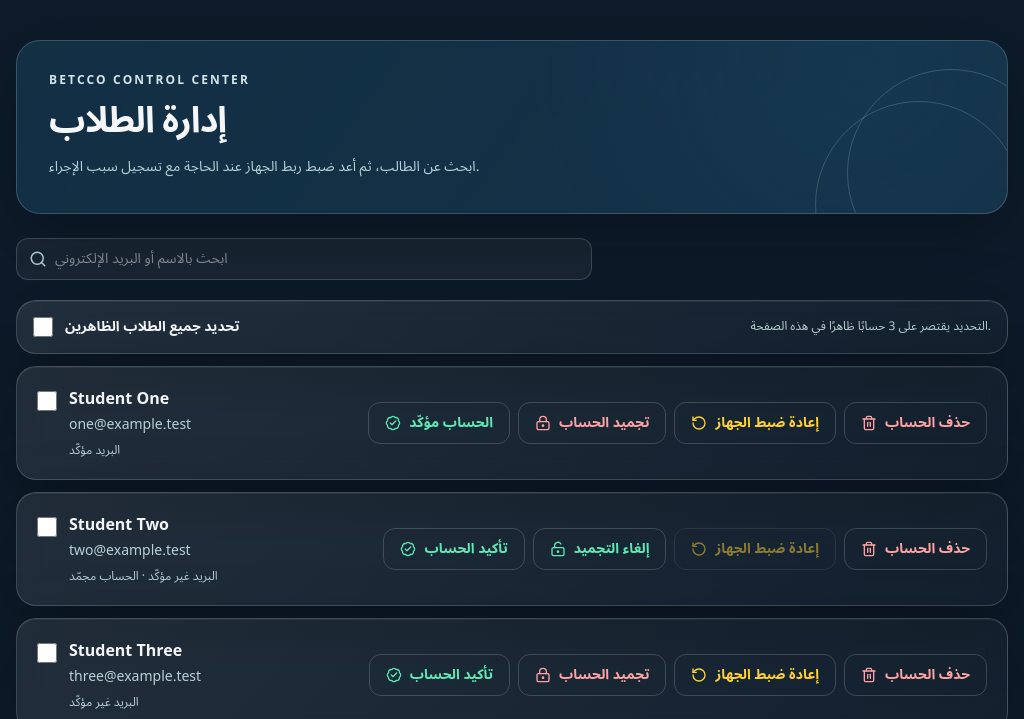
Test: Admin users ar — mocked UI-contract evidence › StudentManagement › renders header, raw identities, statuses and encoded search/query key; search clears selection
Expected: the text "Student One" is shown, [69, 382, 169, 416]
Expected: the heading "إدارة الطلاب" is shown, [49, 83, 226, 159]
Click the checkbox named "تحديد حساب Student One" at (47, 401), box [37, 391, 57, 411]
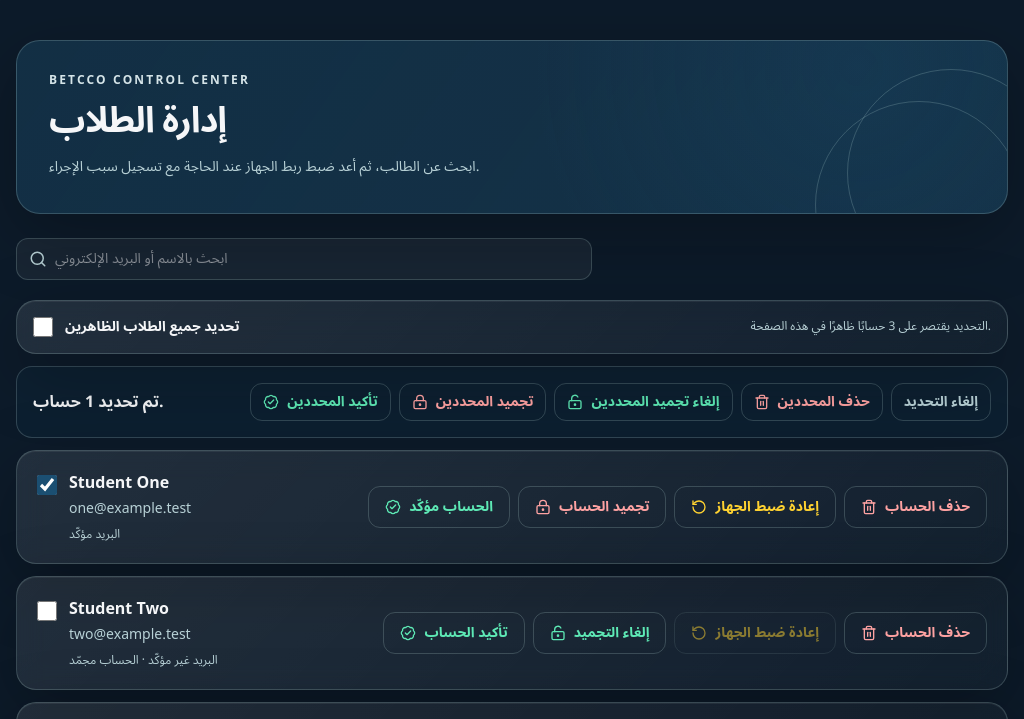
Expected: the button "إلغاء التحديد" is shown, [891, 383, 991, 421]
Type "A+B & طالب" into the field named "بحث عن طالب" at (317, 259), box [55, 249, 579, 269]
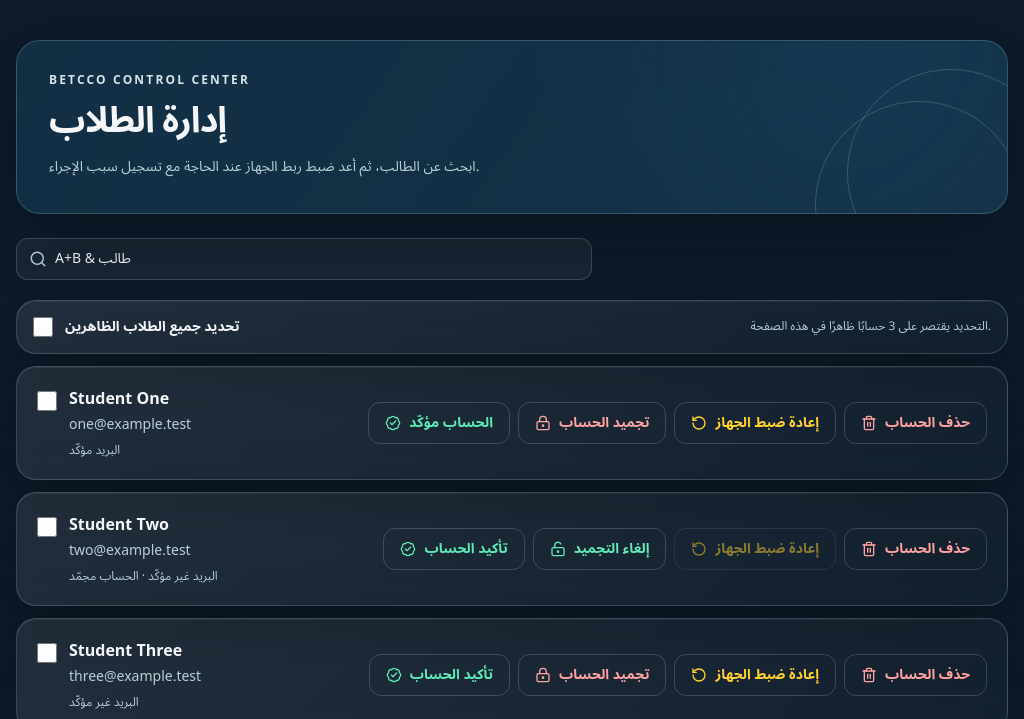
Expected: the button "إلغاء التحديد" is gone
